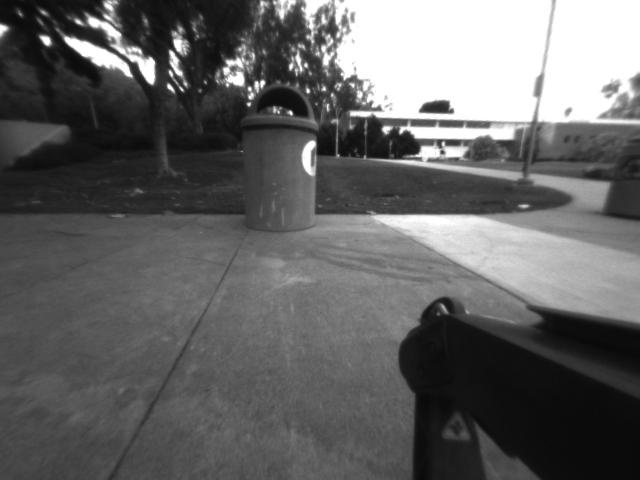trashcan: (230, 87, 327, 241)
